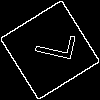L: (25, 25, 76, 63)
